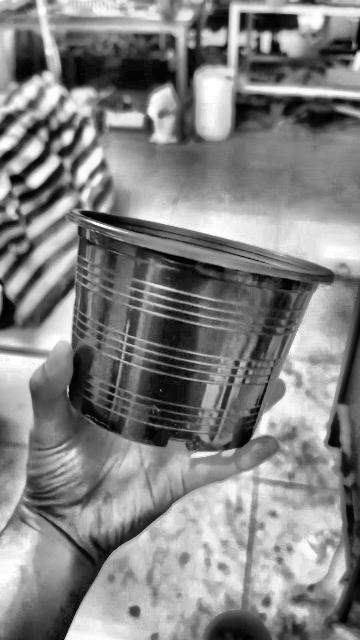pot: (69, 212, 332, 451)
